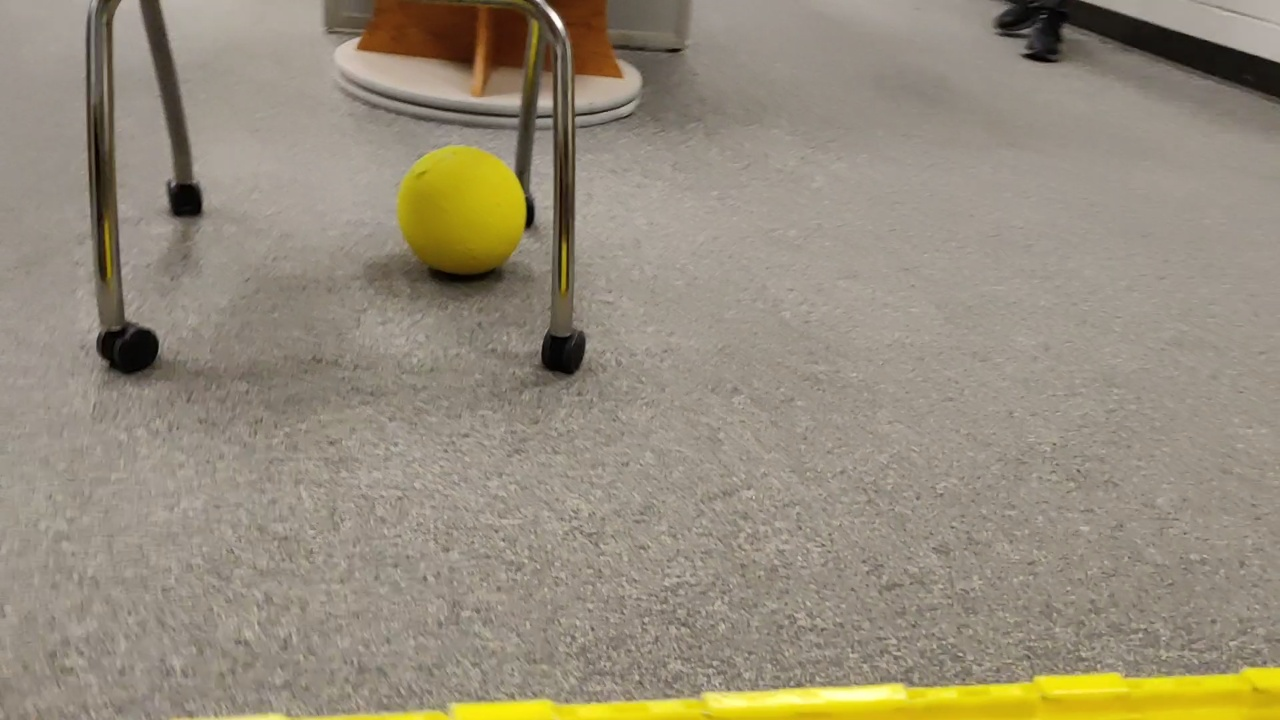Ball: (396, 141, 521, 294)
